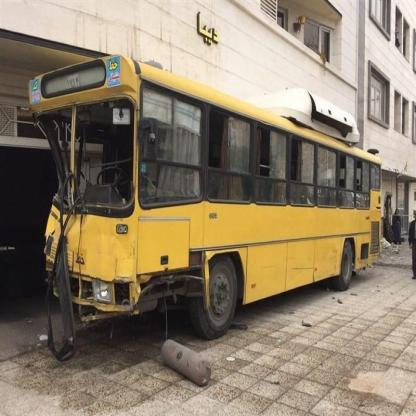Bus: (32, 66, 382, 352)
